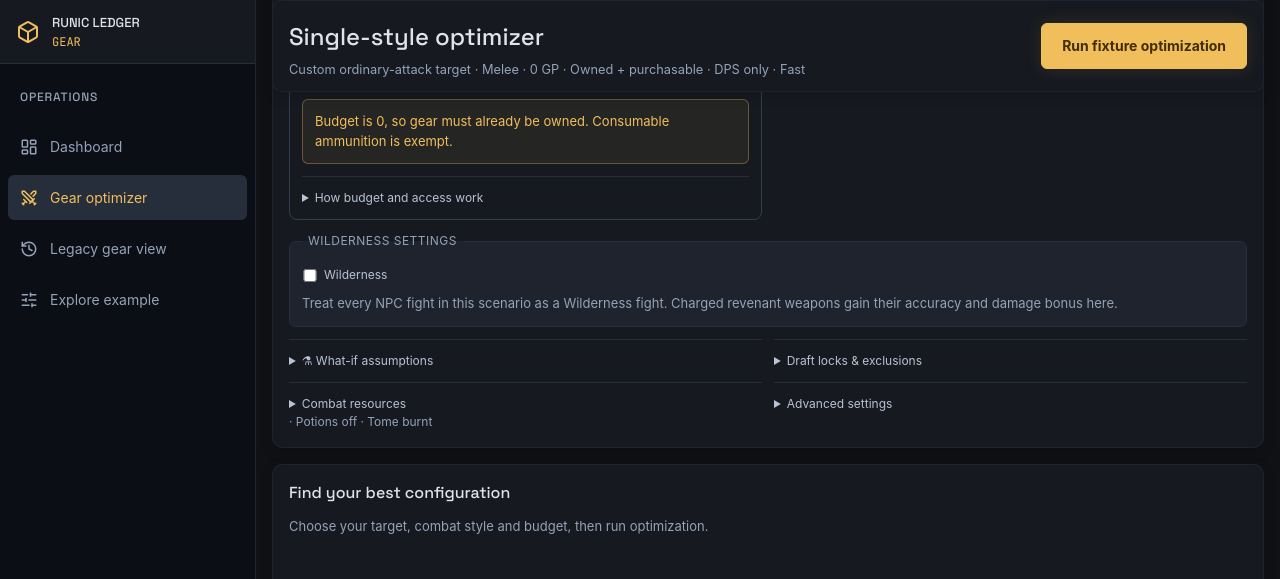
Test: runs the configured potion scenario and marks results outdated on changes
(page scrolled)
Click the heading "Combat resources · Potions off · Tome burnt" at (361, 412), box [289,396,432,429]
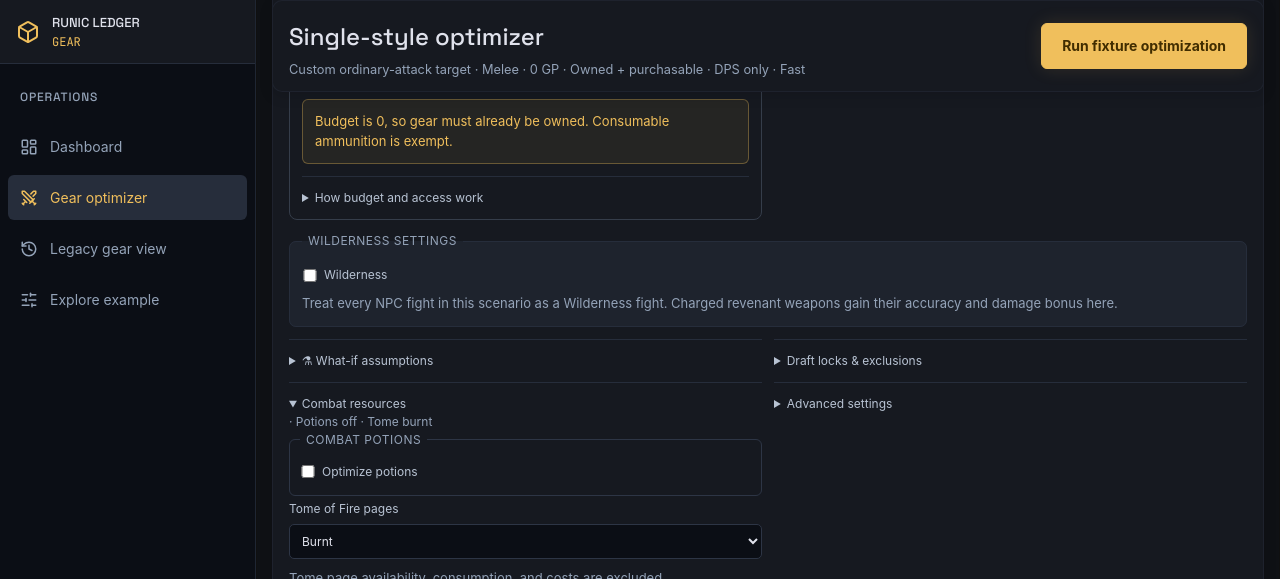
Result: the checkbox labelled "Optimize potions" is not checked
Click the checkbox labelled "Optimize potions" at (308, 472), box [300,465,316,478]
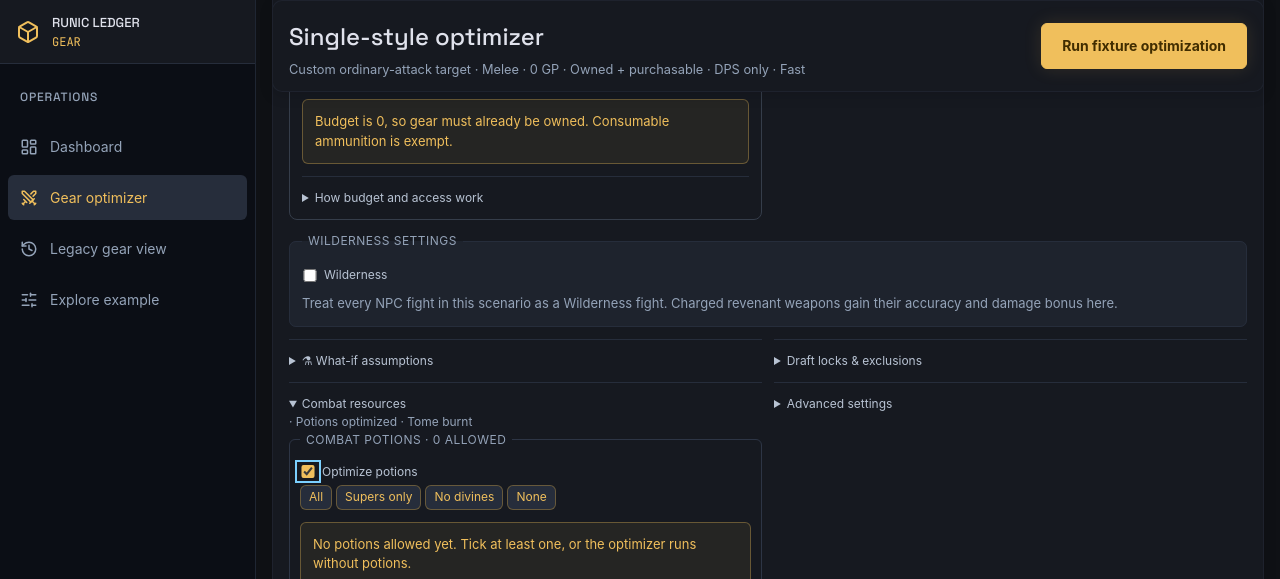
Result: the text "No potions allowed yet" is shown at [313,536,696,571]
Click the button "Run fixture optimization" at (1144, 46), box [1041,23,1247,69]
(page scrolled)
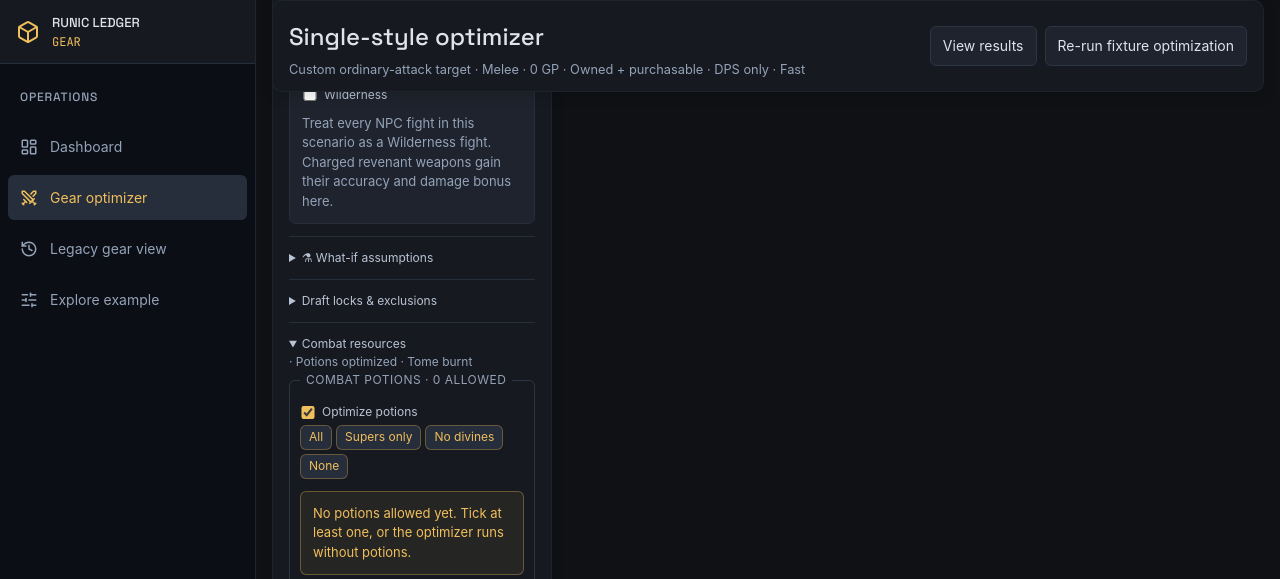
Click the checkbox labelled "Optimize potions" at (308, 412), box [300,406,316,419]
(page scrolled)
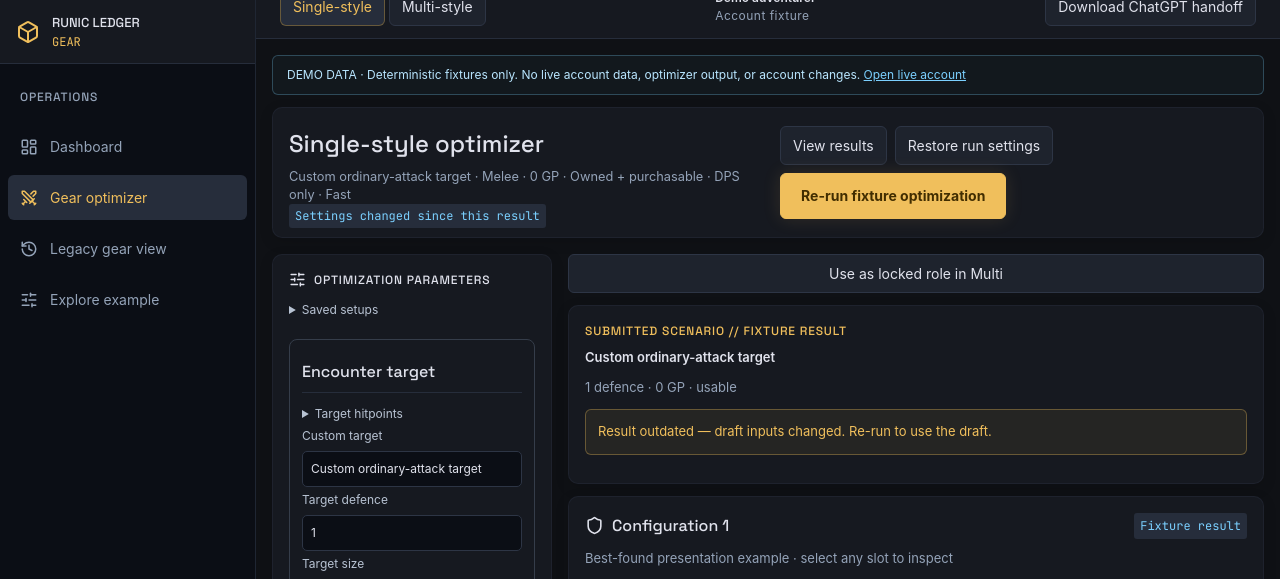
Result: the text "Result outdated — draft inputs changed. Re-run to use the draft." is shown at [585,409,1247,455]
